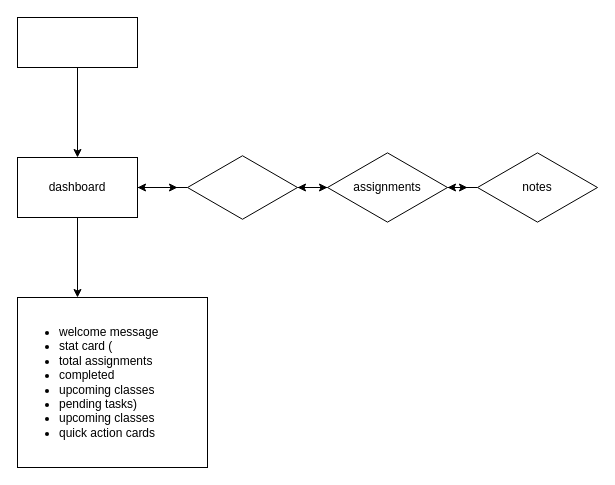
Some shapes in this 615 by 485 pixel diagram are drawn without their labels. The box of each missing label's shape, as (x1, y1, x2, y2) in pixels:
login: (16, 16, 138, 68)
timetables: (186, 154, 298, 220)
